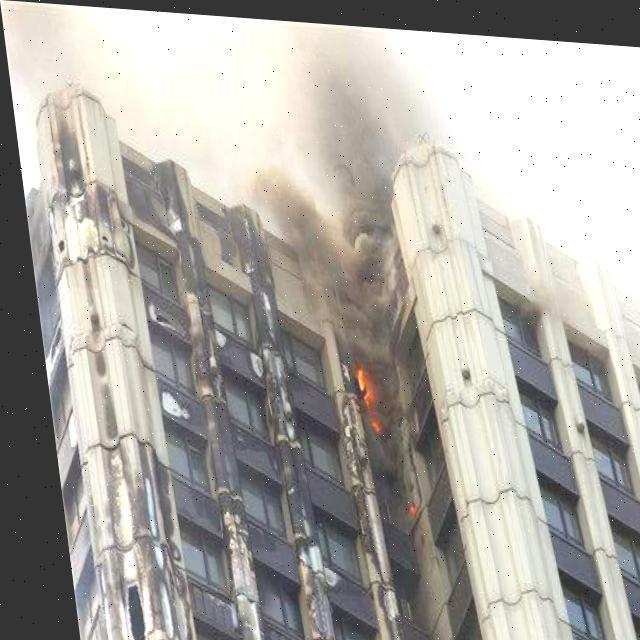Fire: (340, 354, 382, 431), (392, 494, 403, 509)
